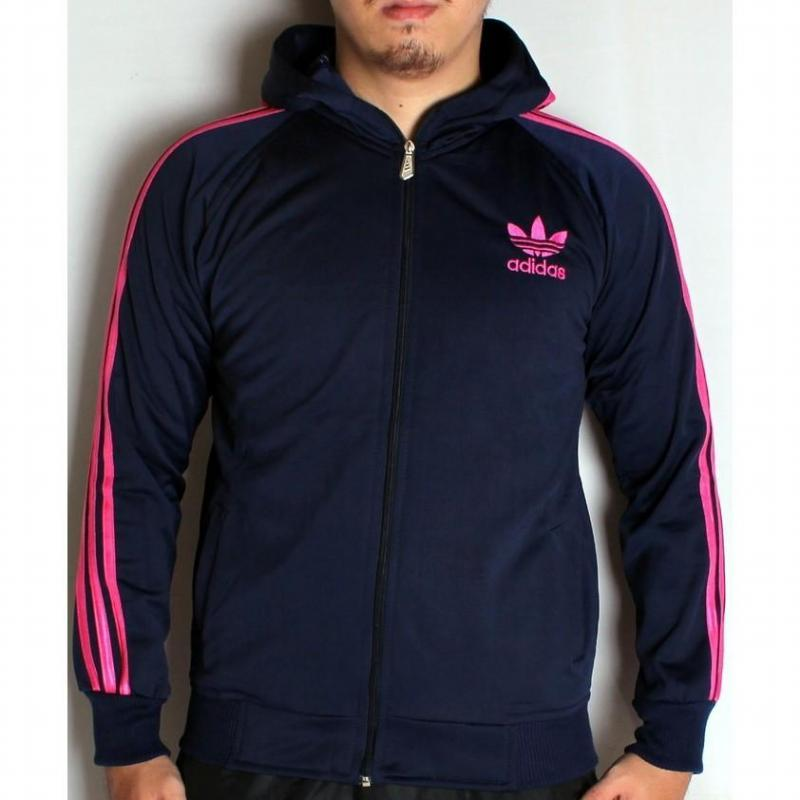jacket: (68, 15, 728, 779)
